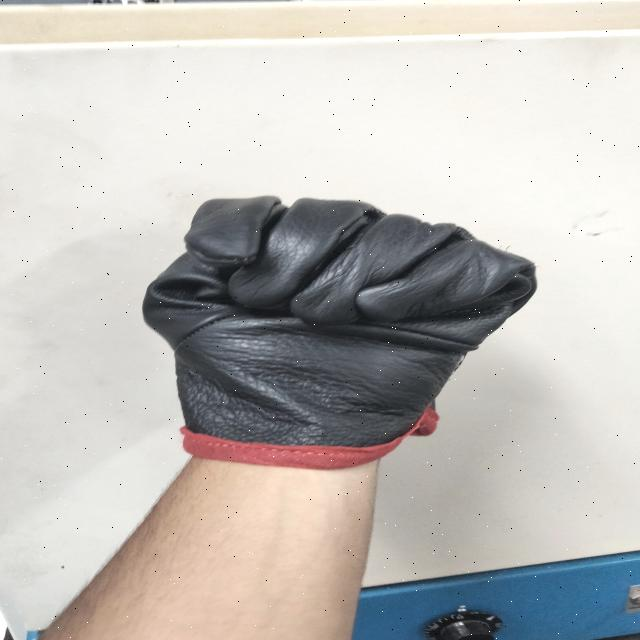Gloves: (133, 198, 529, 470)
